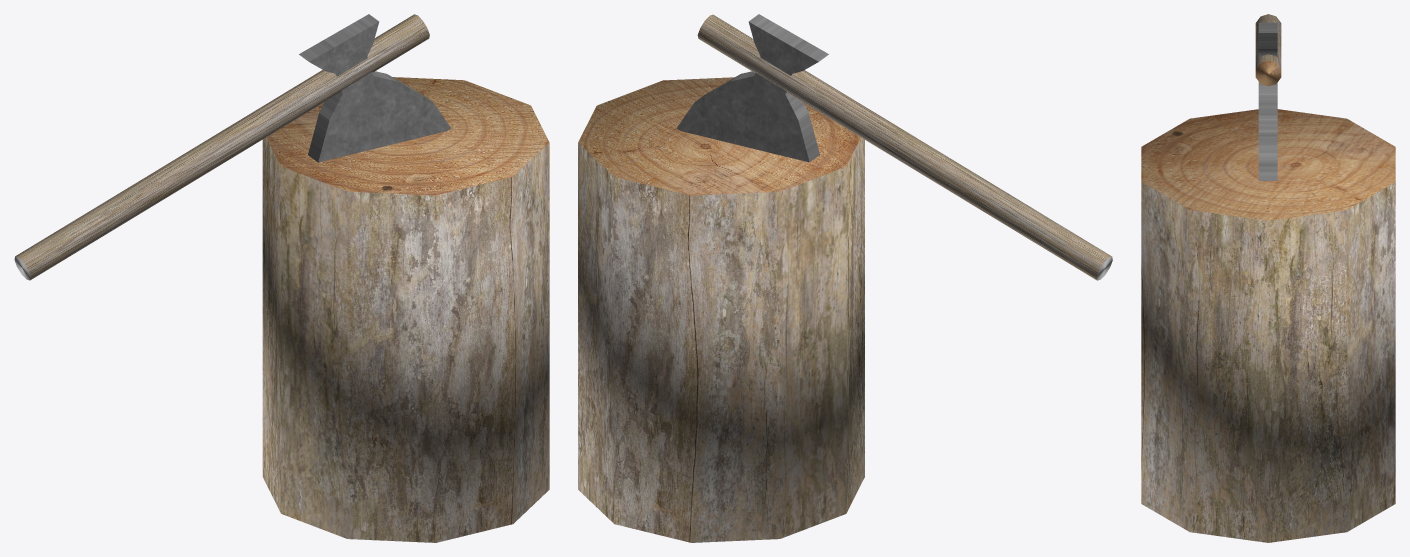
Rendered from woodChop.fbx.
The picture shows the model from 3 angles, left to right: view 1: azimuth 30°, elevation 25°; view 2: azimuth 150°, elevation 25°; view 3: azimuth 270°, elevation 25°; orthographic projection. The views are drawn at different scales.
Parts seen in each view (by area): view 1: polySurface89; view 2: polySurface89; view 3: polySurface89.
Part boxes in pixels (x1,y1,x2,y2): polySurface89: (14,14,549,542); polySurface89: (578,14,1112,542); polySurface89: (1141,14,1395,542).
Size of the model in its own units: 3.15 by 2.78 by 1.46.
4 materials, 3 textured.
